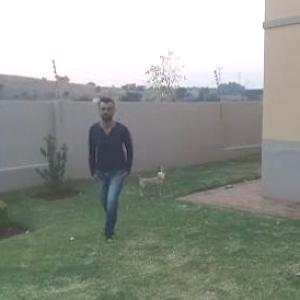follow: (84, 84, 138, 247)
